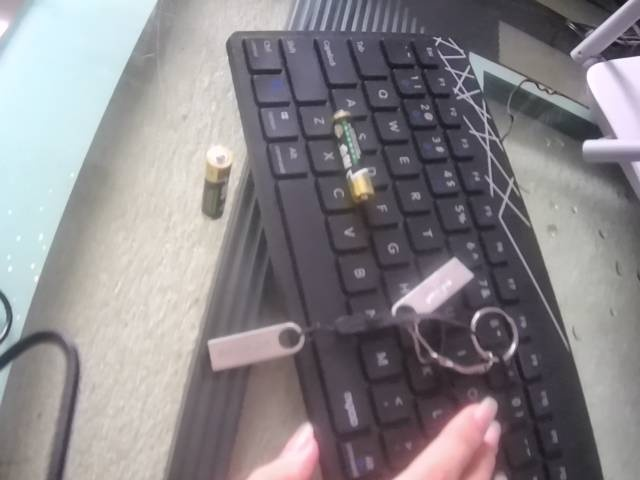U-disk: (386, 259, 518, 376), (200, 322, 322, 370)
battery: (323, 108, 382, 209), (199, 142, 234, 223)
